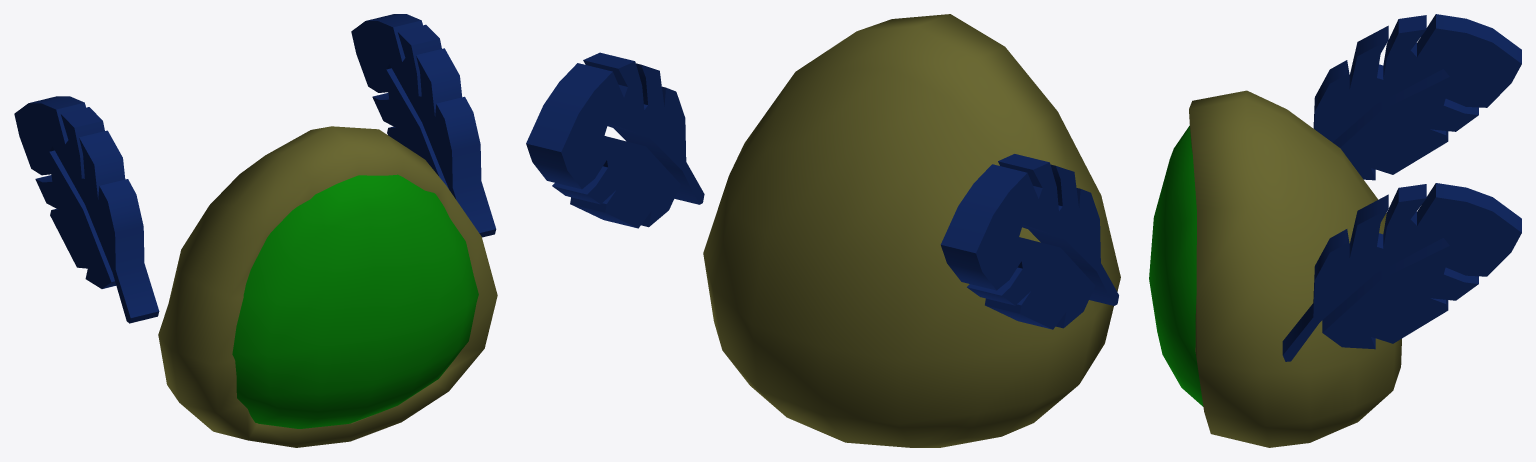
The model's file is unit_tree.fbx.
3 renders of one model, left to right at view 1: azimuth 30°, elevation 25°; view 2: azimuth 150°, elevation 25°; view 3: azimuth 270°, elevation 25°, orthographic. The views are drawn at different scales.
Visible parts, largest first — view 1: Object003, Object001, Object004, Object002; view 2: Object001, Object002, Object004; view 3: Object001, Object002, Object004, Object003.
Boxes of the visible parts, x1=… form: Object003: x1=232, y1=174, x2=478, y2=428; Object001: x1=158, y1=126, x2=497, y2=447; Object004: x1=14, y1=96, x2=159, y2=323; Object002: x1=351, y1=14, x2=496, y2=237; Object001: x1=703, y1=14, x2=1120, y2=447; Object002: x1=526, y1=52, x2=704, y2=228; Object004: x1=940, y1=154, x2=1118, y2=329; Object001: x1=1189, y1=90, x2=1401, y2=447; Object002: x1=1282, y1=183, x2=1521, y2=361; Object004: x1=1313, y1=14, x2=1521, y2=180; Object003: x1=1149, y1=125, x2=1203, y2=406.
Bounding box in the file's own units: 22.48 × 19.34 × 18.39.
